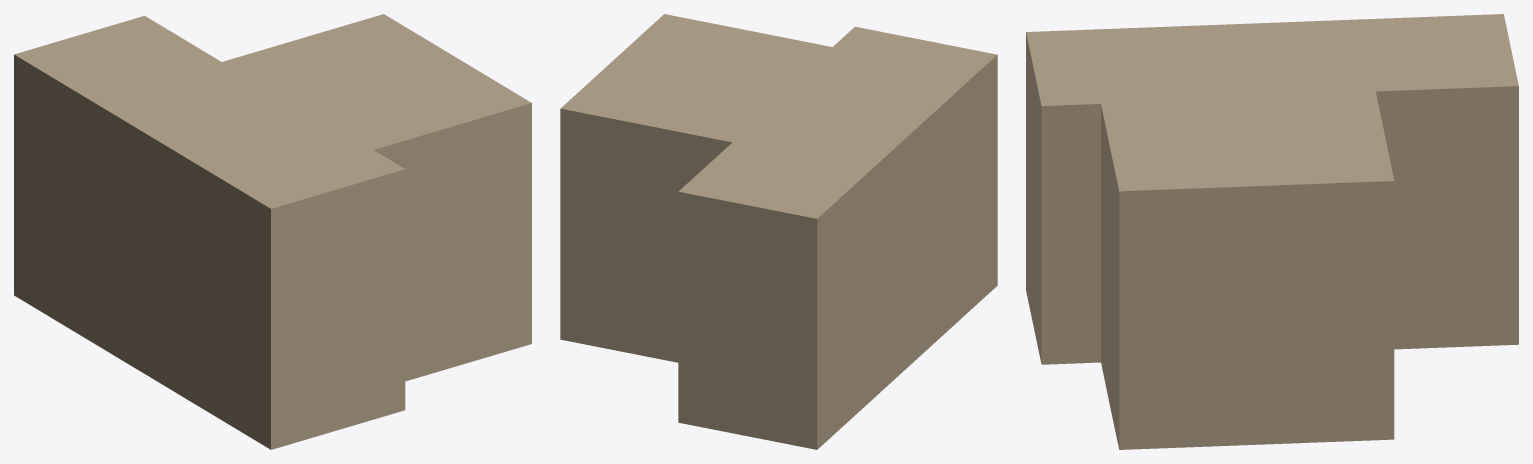
File: bld_108165791.dae
The picture shows the model from 3 angles, left to right: view 1: azimuth 30°, elevation 25°; view 2: azimuth 150°, elevation 25°; view 3: azimuth 270°, elevation 25°; orthographic projection. The views are drawn at different scales.
Visible parts, largest first — view 1: bld_108165791; view 2: bld_108165791; view 3: bld_108165791.
Part boxes in pixels (<box>): bld_108165791: <box>14,14,531,449</box>; bld_108165791: <box>560,14,997,449</box>; bld_108165791: <box>1026,14,1518,449</box>.
Bounding box in the file's own units: 11.76 × 13.81 × 8.
